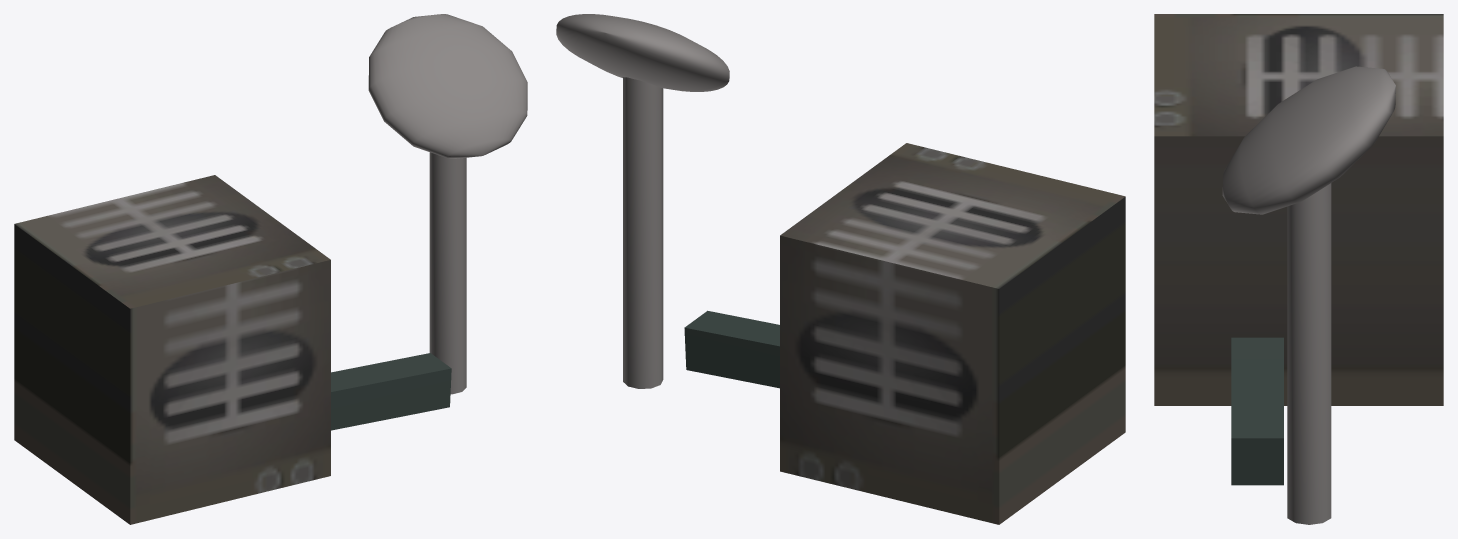
The model's file is Building_BurnoutMechlinkBooster.obj.
The picture shows the model from 3 angles, left to right: view 1: azimuth 30°, elevation 25°; view 2: azimuth 150°, elevation 25°; view 3: azimuth 270°, elevation 25°; orthographic projection. The views are drawn at different scales.
Parts seen in each view (by area): view 1: Body; view 2: Body; view 3: Body.
Part boxes in pixels (x1=…): Body: x1=14, y1=14, x2=527, y2=524; Body: x1=556, y1=14, x2=1125, y2=524; Body: x1=1154, y1=14, x2=1443, y2=524.
Bounding box in the file's own units: 1.97 × 1.45 × 0.875.
Materials: 1 (1 with a texture image).
